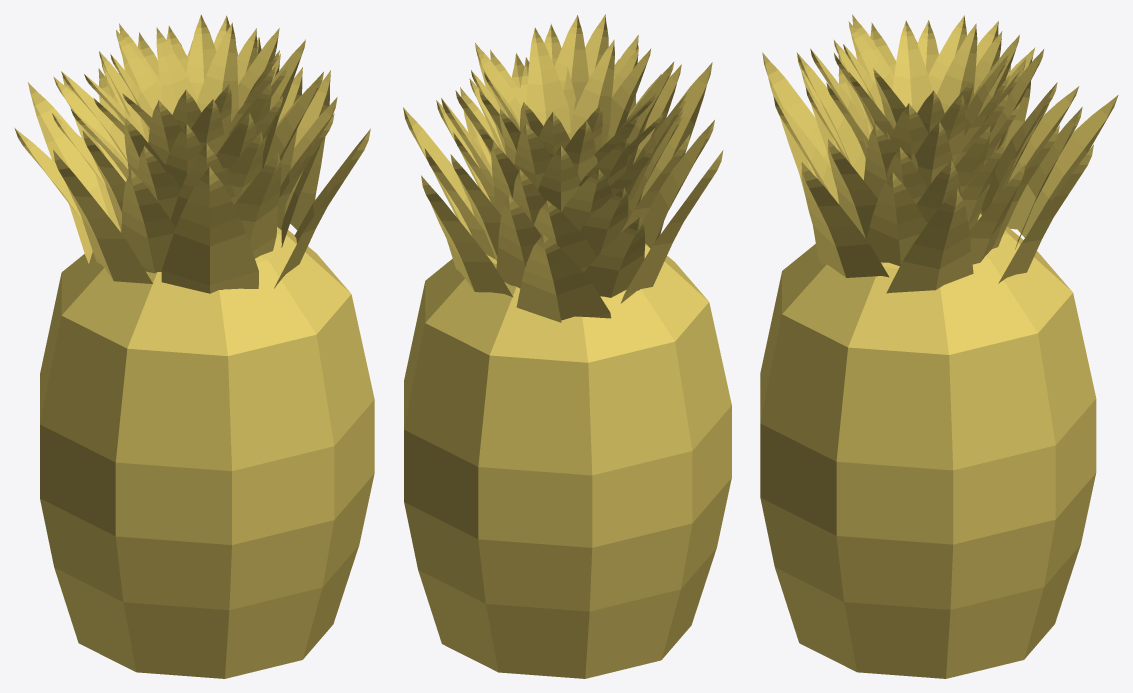
The model's file is goldananas.glb.
3 views of the same model, side by side, from view 1: azimuth 30°, elevation 25°; view 2: azimuth 150°, elevation 25°; view 3: azimuth 270°, elevation 25° (orthographic). The views are drawn at different scales.
Parts seen in each view (by area): view 1: ananasdore; view 2: ananasdore; view 3: ananasdore.
Boxes of the visible parts, box(x1,y1,x2,y2) form: ananasdore: box(14, 14, 374, 678); ananasdore: box(403, 14, 731, 678); ananasdore: box(760, 14, 1118, 678).
Size of the model in its own units: 5.49 by 10.42 by 5.59.
